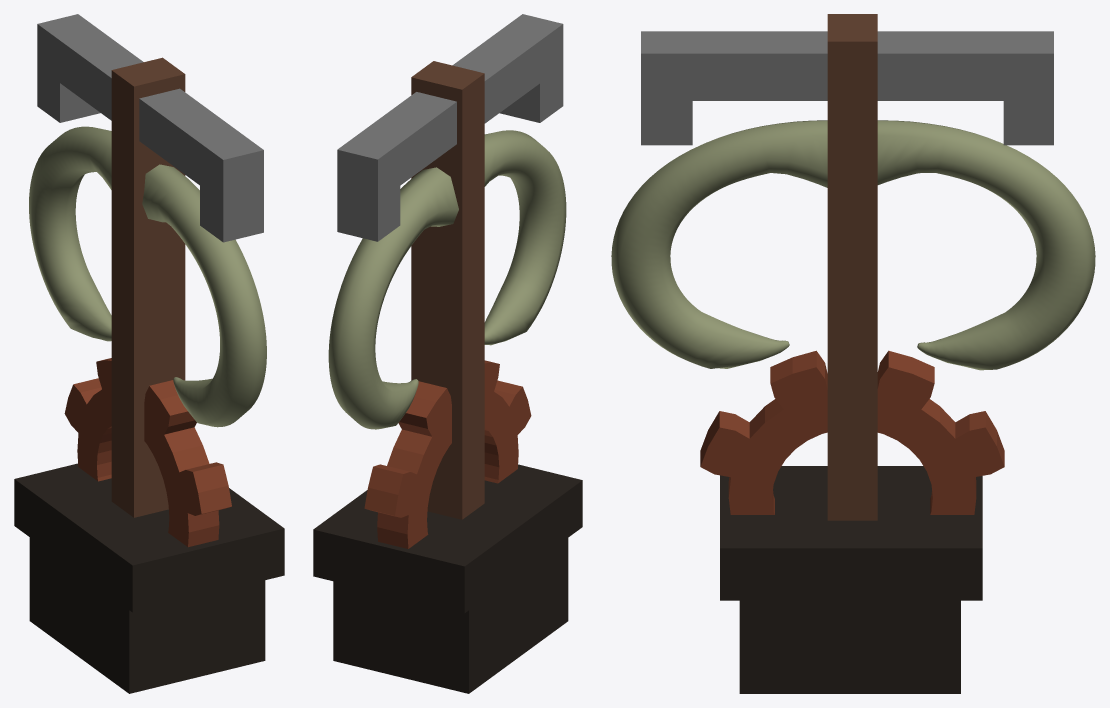
The model's file is Building1.fbx.
3 renders of one model, left to right at view 1: azimuth 30°, elevation 25°; view 2: azimuth 150°, elevation 25°; view 3: azimuth 270°, elevation 25°, orthographic. The views are drawn at different scales.
Visible parts, largest first — view 1: statue; view 2: statue; view 3: statue.
Part boxes in pixels (x1,y1,x2,y2): statue: (14, 14, 284, 693); statue: (313, 14, 582, 693); statue: (611, 14, 1095, 693).
Bounding box in the file's own units: 195 × 694 × 483.
